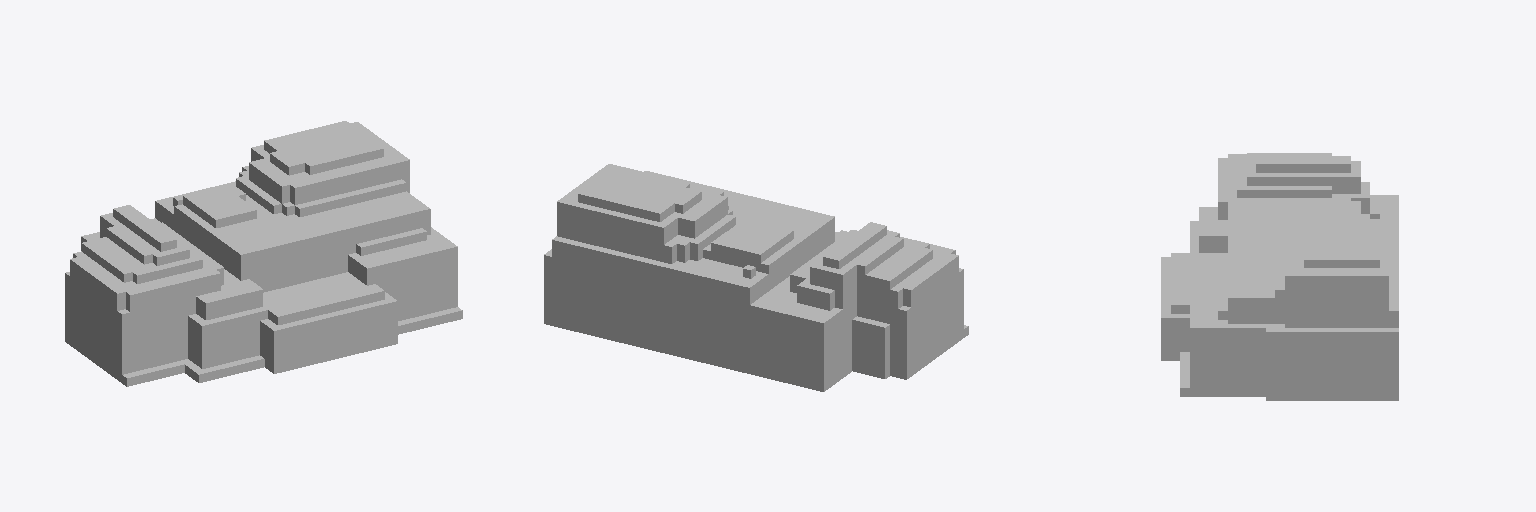
File: rock_02.obj
The picture shows the model from 3 angles: view 1: azimuth 30°, elevation 25°; view 2: azimuth 150°, elevation 25°; view 3: azimuth 270°, elevation 25°; orthographic projection.
Visible parts, largest first — view 1: object 1; view 2: object 1; view 3: object 1.
Part boxes in pixels (bbox=[...]): object 1: bbox=[65, 121, 462, 386]; object 1: bbox=[544, 164, 968, 391]; object 1: bbox=[1161, 153, 1398, 400].
Size of the model in its own units: 4 by 1.5 by 2.5.